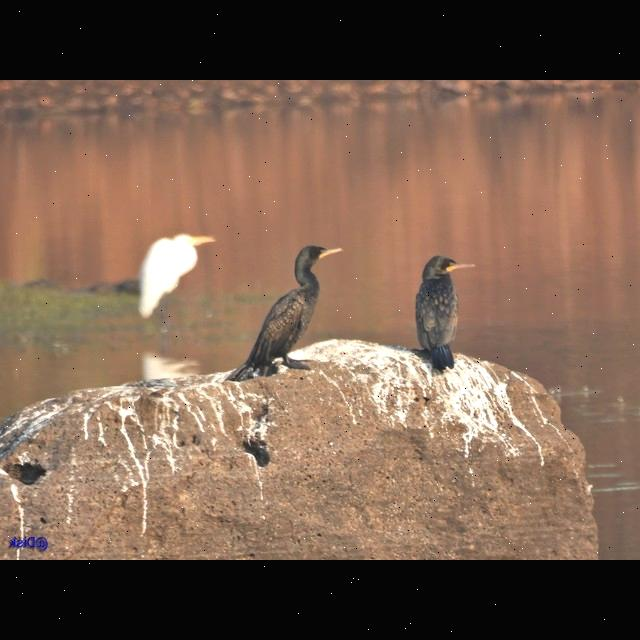cormorant: (242, 244, 346, 380), (392, 254, 478, 368)
egret: (130, 230, 220, 326)
